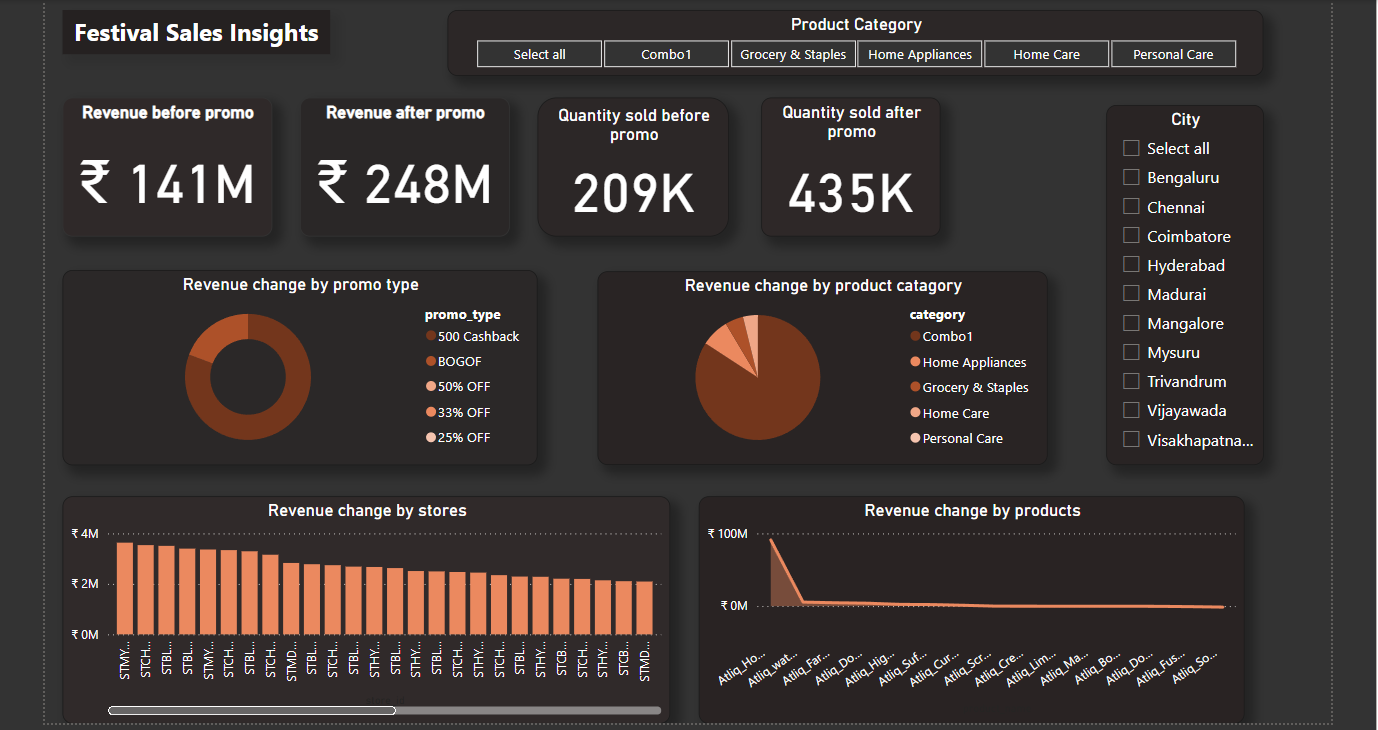

Layout of this report page (visuals, bound fields, positions):
{"tool":"powerbi","page":{"name":"Page 1","canvas":[1280,720],"ordinal":0},"visuals":[{"type":"card","title":"Revenue before promo","fields":{"Values":["Measures (3).Measure"]},"box":[17.8,97.4,208.6,138.6],"z":0},{"type":"card","title":"Revenue after promo","fields":{"Values":["Measures (3).Measure 2"]},"box":[253.9,97.4,208.6,138.6],"z":1000},{"type":"columnChart","title":"Revenue change by stores","fields":{"Category":["fact_events.store_id"],"Y":["Measures (3).Measure 3"]},"box":[17.8,494,605.1,226.4],"z":2000},{"type":"slicer","title":"City","fields":{"Values":["dim_stores.city"]},"box":[1056.6,104.3,156.4,358.1],"z":3000},{"type":"donutChart","title":"Revenue change by promo type","fields":{"Category":["fact_events.promo_type"],"Y":["Measures (3).Measure 3"]},"box":[17.4,268.7,472.7,194.1],"z":4000},{"type":"pieChart","title":"Revenue change by product catagory ","fields":{"Category":["dim_products.category"],"Y":["Measures (3).Measure 3"]},"box":[549.8,269.9,447.8,192.8],"z":5000},{"type":"slicer","title":"Product Category","fields":{"Values":["dim_products.category"]},"box":[400.7,9.6,812.4,65.9],"z":6000},{"type":"stackedAreaChart","title":"Revenue change by products","fields":{"Category":["dim_products.product_name"],"Y":["Measures (3).Measure 3"]},"box":[650.4,494,543.4,226.4],"z":7000},{"type":"card","title":"Quantity sold before promo","fields":{"Values":["Measures (3).Measure 4"]},"box":[489.9,97.4,190.7,138.6],"z":8000},{"type":"card","title":"Quantity sold after promo","fields":{"Values":["Measures (3).Measure 5"]},"box":[712.2,97.4,178.4,138.6],"z":9000},{"type":"textbox","box":[17.8,9.6,266.2,43.9],"z":10000}]}

Visuals, with their boxes on the page's 1280x720 design canvas (x1, y1, x2, y2). These are canvas units, not pixel positions in the 1378x730 screenshot, which may show the page scaled, cropped or inside an application window:
"Revenue before promo" card: region(18, 97, 226, 236)
"Revenue after promo" card: region(254, 97, 462, 236)
"Revenue change by stores" columnChart: region(18, 494, 623, 720)
"City" slicer: region(1057, 104, 1213, 462)
"Revenue change by promo type" donutChart: region(17, 269, 490, 463)
"Revenue change by product catagory " pieChart: region(550, 270, 998, 463)
"Product Category" slicer: region(401, 10, 1213, 76)
"Revenue change by products" stackedAreaChart: region(650, 494, 1194, 720)
"Quantity sold before promo" card: region(490, 97, 681, 236)
"Quantity sold after promo" card: region(712, 97, 891, 236)
textbox: region(18, 10, 284, 54)
